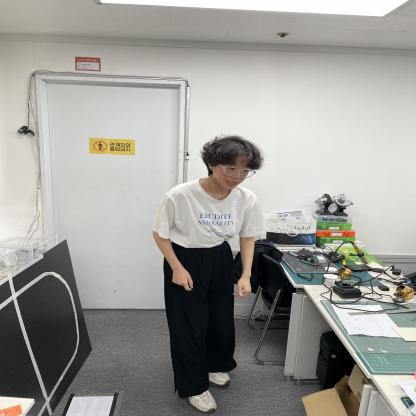normal: (154, 134, 266, 410)
